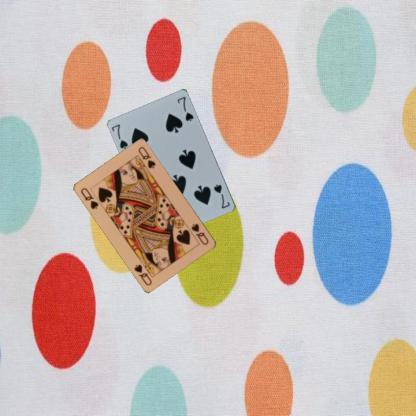7s: (109, 122, 130, 150), (212, 181, 232, 210)
Qs: (78, 185, 100, 211), (188, 221, 210, 246)
